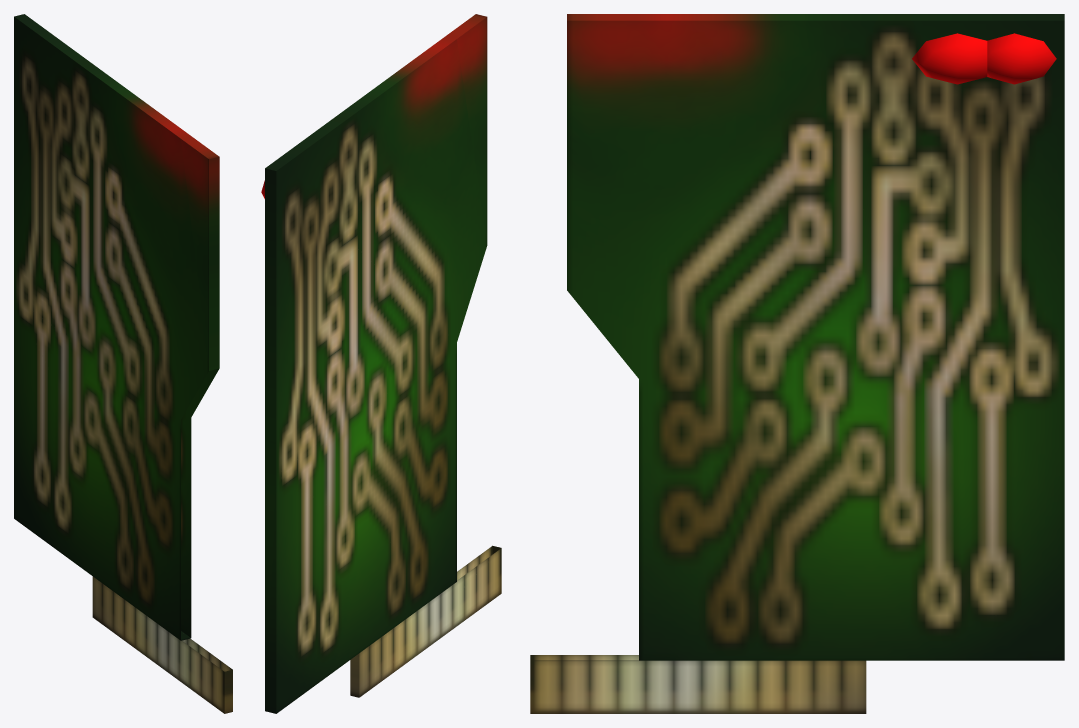
The model's file is acs31.obj.
3 renders of one model, left to right at view 1: azimuth 30°, elevation 25°; view 2: azimuth 150°, elevation 25°; view 3: azimuth 270°, elevation 25°, orthographic. The views are drawn at different scales.
Visible parts, largest first — view 1: frm-fuselg1, frm-fuselg2; view 2: frm-fuselg1, frm-fuselg2; view 3: frm-fuselg1, frm-fuselg2, frm-SS2, frm-SS1.
Boxes of the visible parts, x1=… form: frm-fuselg1: x1=14, y1=14, x2=219, y2=640; frm-fuselg2: x1=92, y1=576, x2=232, y2=713; frm-fuselg1: x1=265, y1=14, x2=487, y2=713; frm-fuselg2: x1=350, y1=545, x2=501, y2=697; frm-fuselg1: x1=567, y1=14, x2=1064, y2=660; frm-fuselg2: x1=530, y1=655, x2=866, y2=713; frm-SS2: x1=912, y1=33, x2=987, y2=84; frm-SS1: x1=987, y1=33, x2=1056, y2=84.
Bounding box in the file's own units: 0.0122 × 0.2259 × 0.1576.
Materials: 4 (3 with a texture image).
